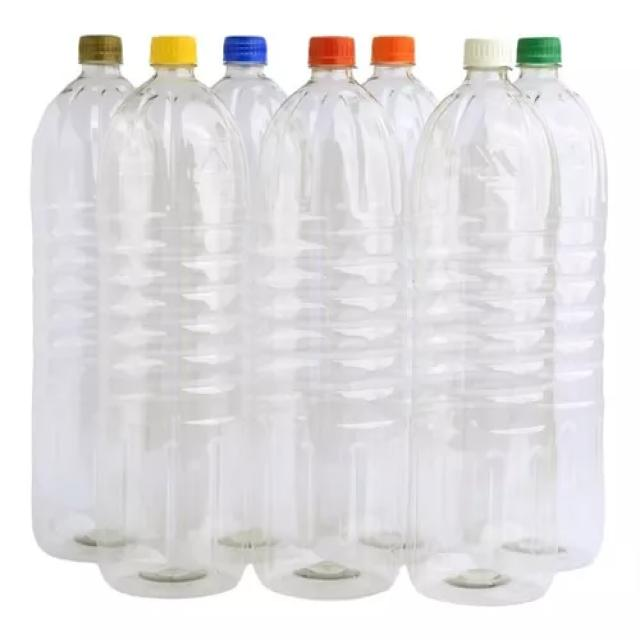bottom: (94, 544, 243, 608), (256, 546, 398, 610), (403, 554, 552, 614), (470, 514, 610, 569), (22, 502, 134, 557), (215, 502, 281, 568), (358, 517, 415, 559)
cap: (216, 24, 272, 78), (457, 32, 511, 84), (307, 30, 357, 86), (366, 29, 418, 76), (513, 32, 562, 75), (144, 35, 194, 71), (70, 38, 122, 69)
